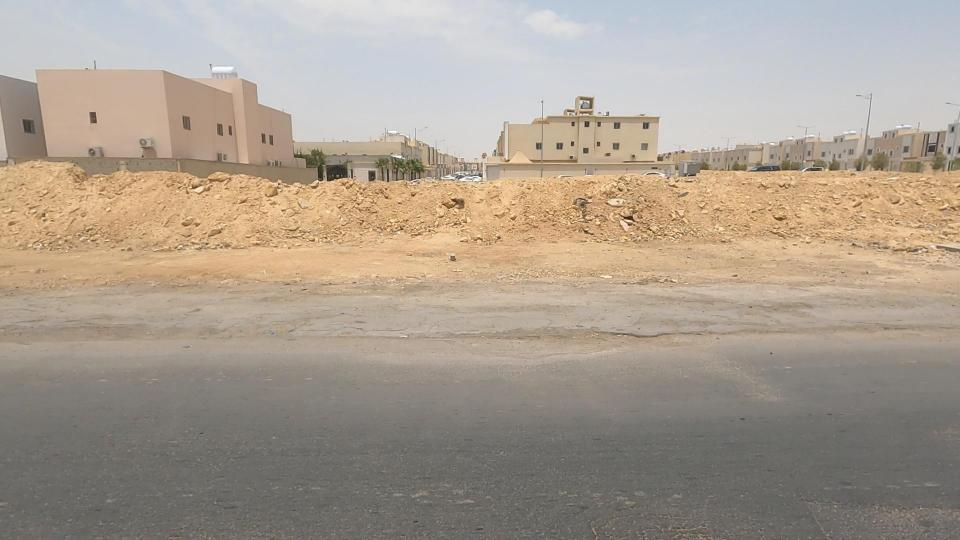GARBAGE: (583, 169, 652, 251), (548, 177, 614, 238)
